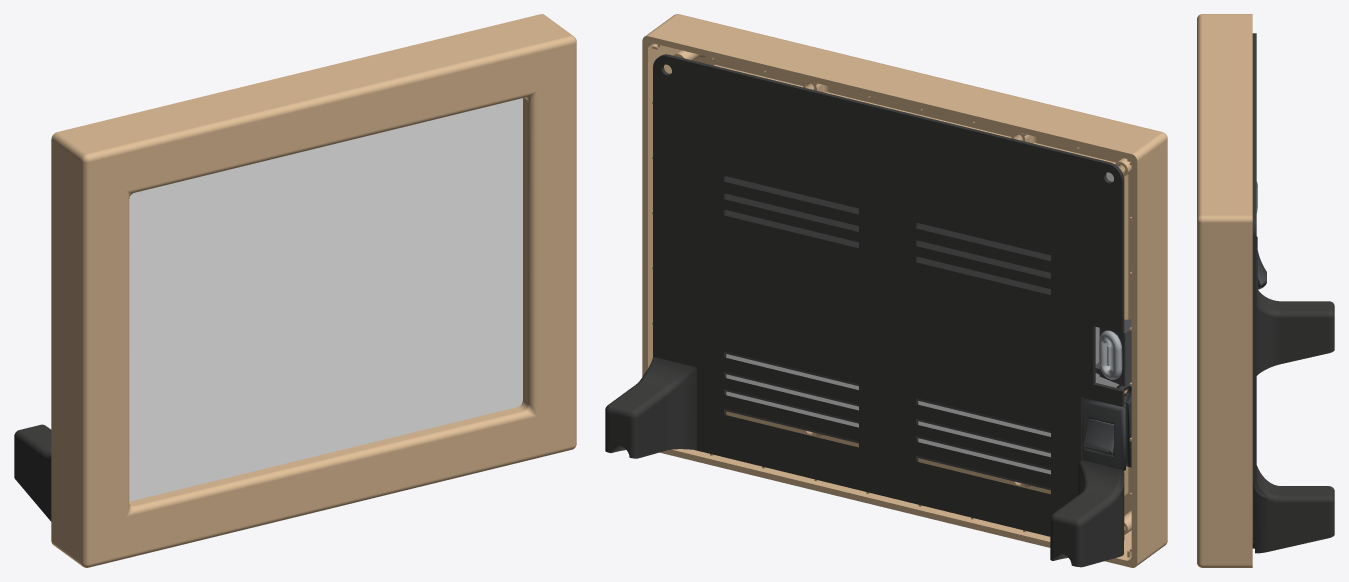
Rendered from horizontal-compact.glb.
The picture shows the model from 3 angles, left to right: view 1: azimuth 30°, elevation 25°; view 2: azimuth 150°, elevation 25°; view 3: azimuth 270°, elevation 25°; orthographic projection. The views are drawn at different scales.
Parts seen in each view (by area): view 1: PHOTO_HORIZONTAL_NO_MIRROR, CAD_SHARED_Cubierta_V2-1-solid1, HORIZONTAL_LEGS_ORIGINAL; view 2: HORIZONTAL_BACK_ORIGINAL, CAD_SHARED_Cubierta_V2-1-solid1, HORIZONTAL_LEGS_ORIGINAL, PHOTO_HORIZONTAL_NO_MIRROR, CAD_SHARED_Interruptor-1-solid1, CAD_SHARED_Interruptor-1-solid2, CAD_SHARED_USB Type-C-1-solid2, CAD_SHARED_USB-C-1-solid1; view 3: CAD_SHARED_Cubierta_V2-1-solid1, HORIZONTAL_LEGS_ORIGINAL, HORIZONTAL_BACK_ORIGINAL, CAD_SHARED_Interruptor-1-solid2.
Boxes of the visible parts, x1=… form: PHOTO_HORIZONTAL_NO_MIRROR: x1=129, y1=98, x2=522, y2=501; CAD_SHARED_Cubierta_V2-1-solid1: x1=51, y1=14, x2=576, y2=567; HORIZONTAL_LEGS_ORIGINAL: x1=14, y1=424, x2=51, y2=521; HORIZONTAL_BACK_ORIGINAL: x1=653, y1=54, x2=1124, y2=540; CAD_SHARED_Cubierta_V2-1-solid1: x1=642, y1=14, x2=1167, y2=567; HORIZONTAL_LEGS_ORIGINAL: x1=605, y1=357, x2=1123, y2=567; PHOTO_HORIZONTAL_NO_MIRROR: x1=726, y1=172, x2=1118, y2=474; CAD_SHARED_Interruptor-1-solid1: x1=1082, y1=394, x2=1128, y2=470; CAD_SHARED_Interruptor-1-solid2: x1=1083, y1=416, x2=1114, y2=456; CAD_SHARED_USB Type-C-1-solid2: x1=1099, y1=330, x2=1122, y2=379; CAD_SHARED_USB-C-1-solid1: x1=1095, y1=319, x2=1131, y2=386; CAD_SHARED_Cubierta_V2-1-solid1: x1=1197, y1=14, x2=1252, y2=567; HORIZONTAL_LEGS_ORIGINAL: x1=1253, y1=290, x2=1334, y2=553; HORIZONTAL_BACK_ORIGINAL: x1=1252, y1=33, x2=1256, y2=548; CAD_SHARED_Interruptor-1-solid2: x1=1257, y1=250, x2=1266, y2=289.
Size of the model in its own units: 0.174 by 0.139 by 0.0496.
12 materials, 5 textured.
